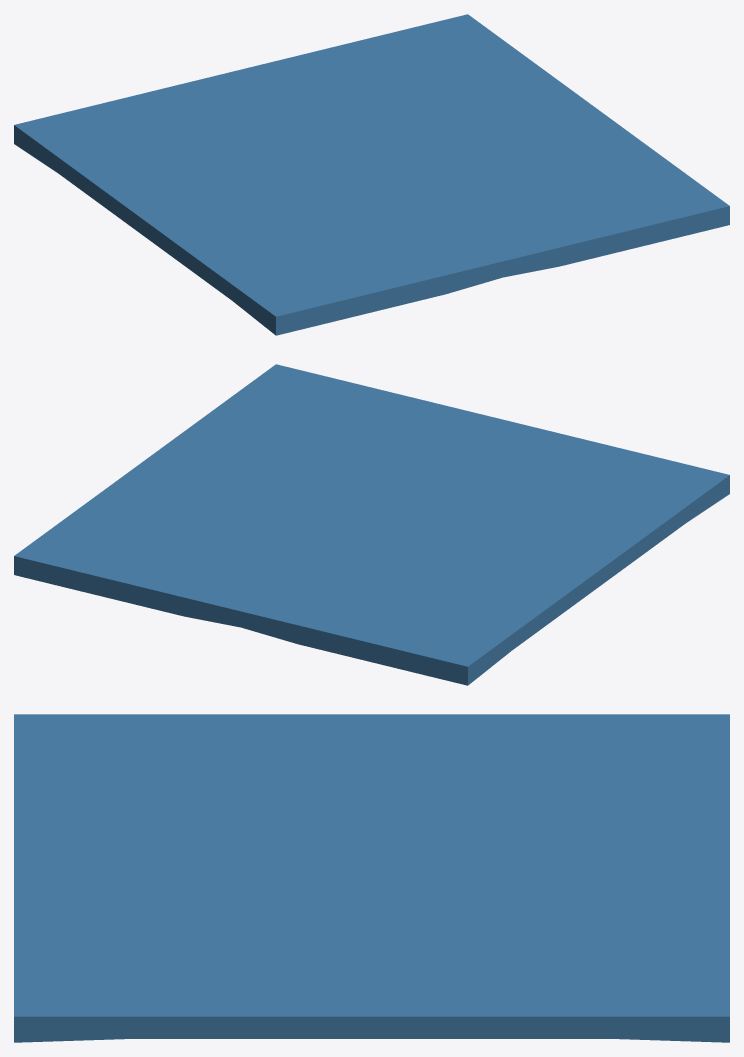
The model's file is ceiling with lights.fbx.
The picture shows the model from 3 angles, top to bottom: view 1: azimuth 30°, elevation 25°; view 2: azimuth 150°, elevation 25°; view 3: azimuth 270°, elevation 25°; orthographic projection. The views are drawn at different scales.
Parts seen in each view (by area): view 1: Tile; view 2: Tile; view 3: Tile.
Part boxes in pixels (x1,y1,x2,y2): Tile: (14, 14, 729, 335); Tile: (14, 364, 729, 685); Tile: (14, 714, 729, 1042).
Bounding box in the file's own units: 500 × 21 × 500.
